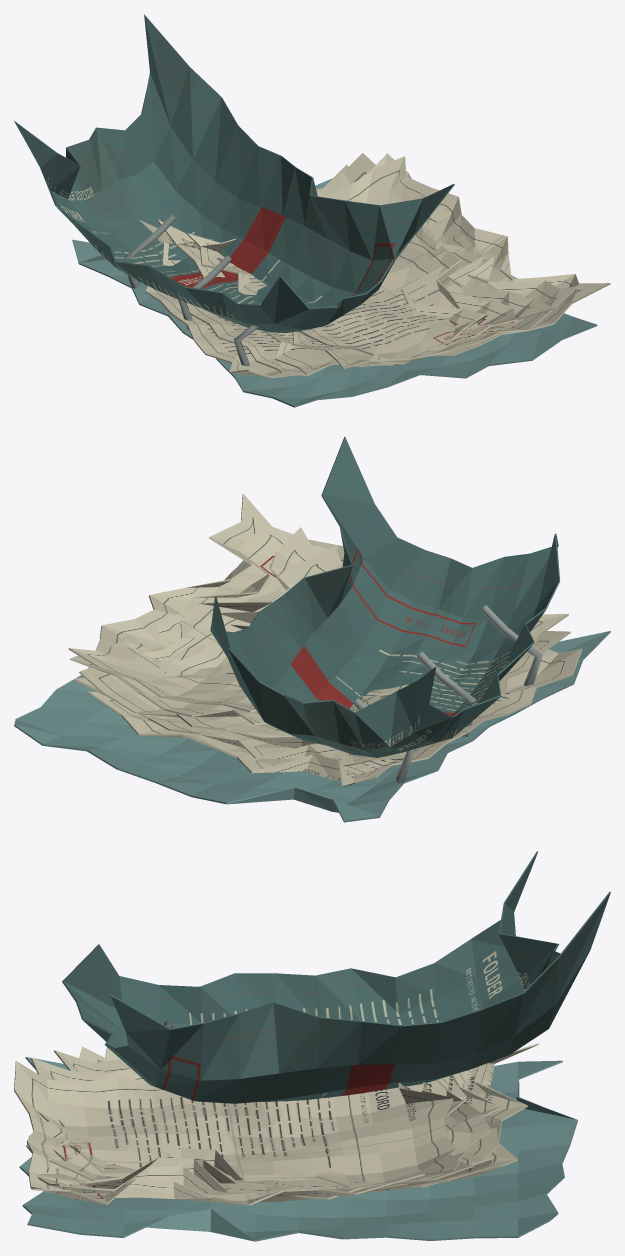
The model's file is DS_Clue_Folder_Damaged_V02.fbx.
3 views of the same model, one above another, from view 1: azimuth 30°, elevation 25°; view 2: azimuth 150°, elevation 25°; view 3: azimuth 270°, elevation 25° (orthographic). The views are drawn at different scales.
Visible parts, largest first — view 1: DS_Clue_Folder_Damaged_V02; view 2: DS_Clue_Folder_Damaged_V02; view 3: DS_Clue_Folder_Damaged_V02.
Part boxes in pixels (x1,y1,x2,y2): DS_Clue_Folder_Damaged_V02: (14, 14, 610, 407); DS_Clue_Folder_Damaged_V02: (14, 436, 610, 822); DS_Clue_Folder_Damaged_V02: (14, 851, 610, 1241).
Size of the model in its own units: 79.51 by 42.04 by 90.85.
Materials: 4 (2 with a texture image).
